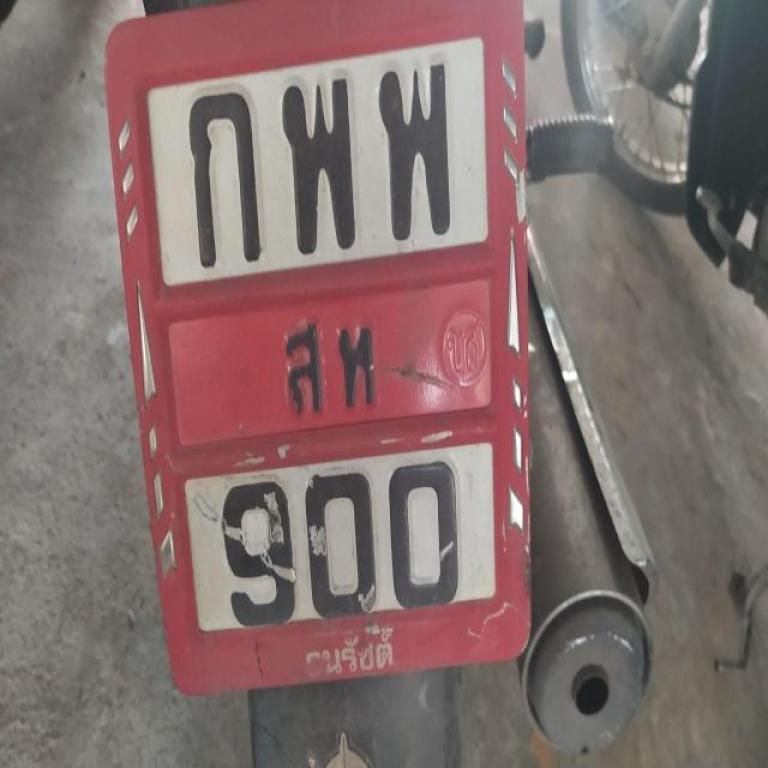license plate: (104, 7, 548, 686)
